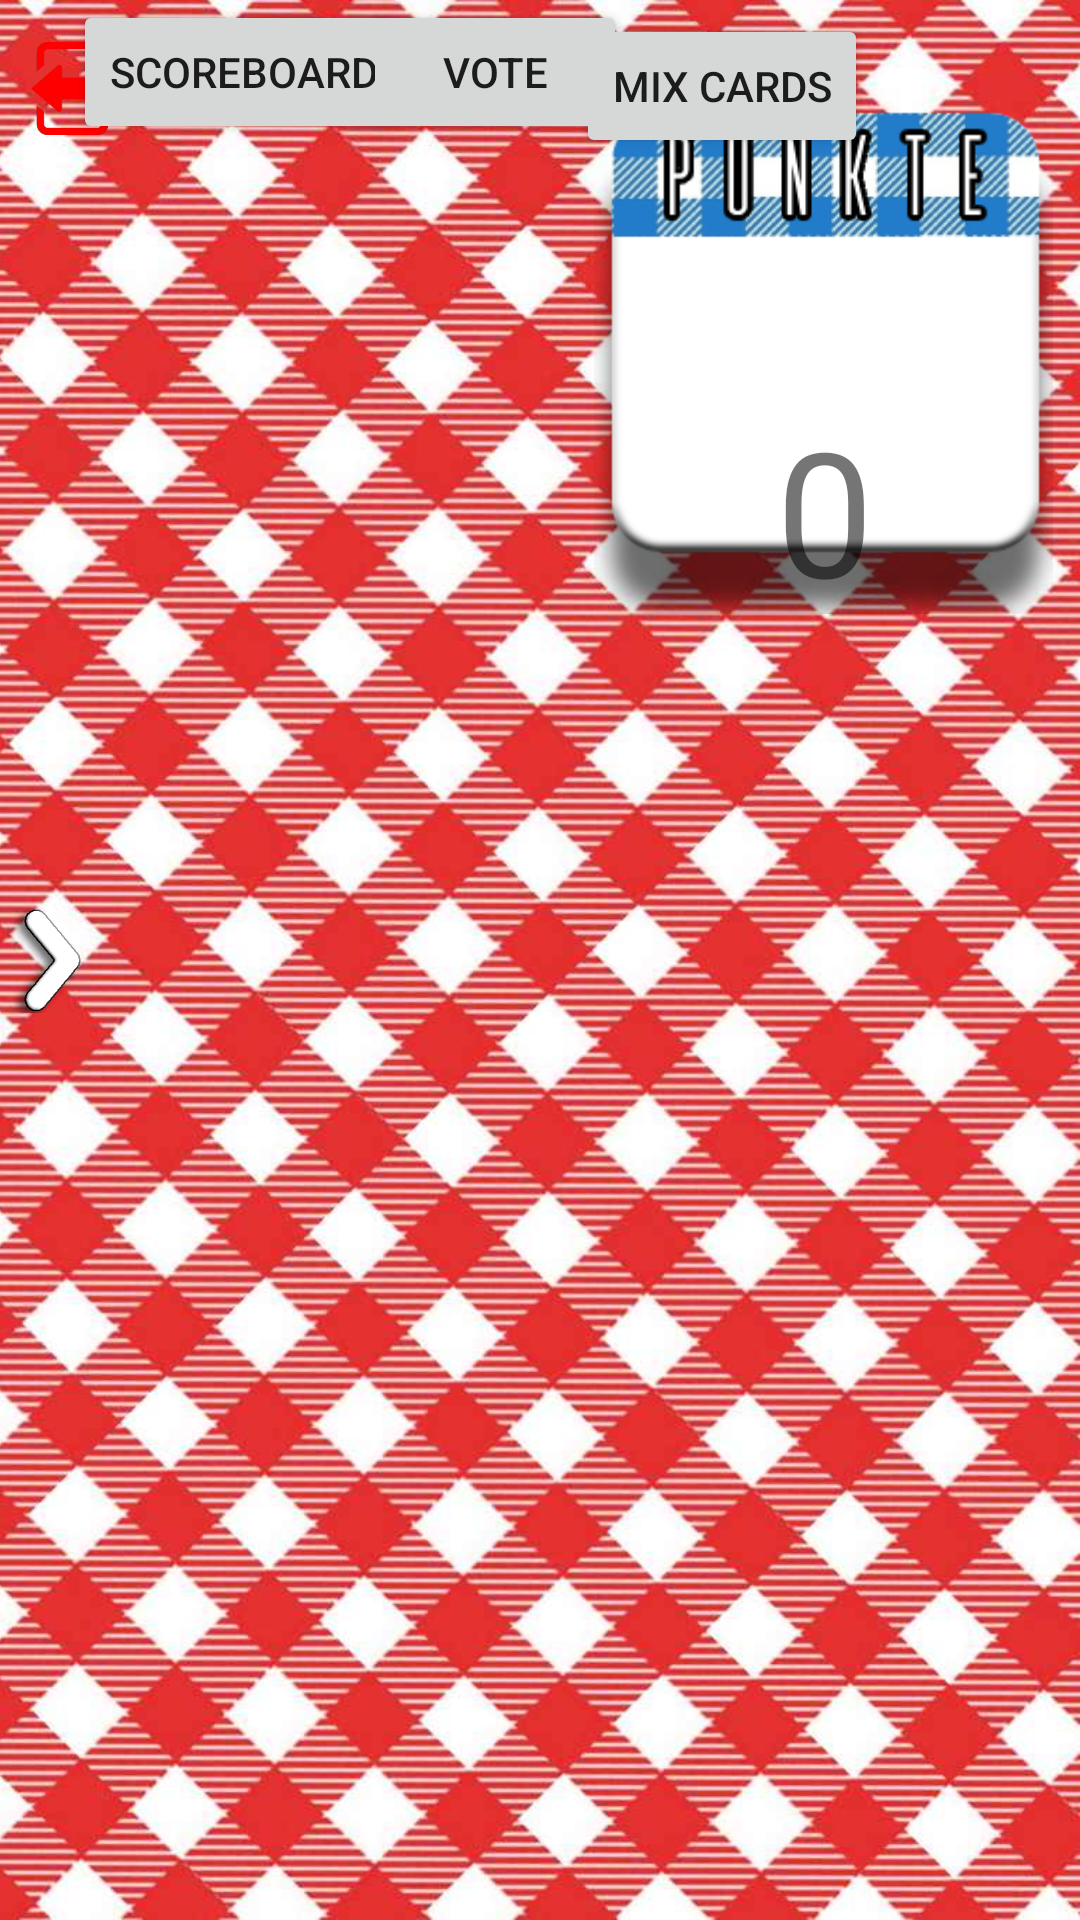

Where to tap for icons on this 1080 × 1920 app screen, as (x,y):
exit: (67,88)
